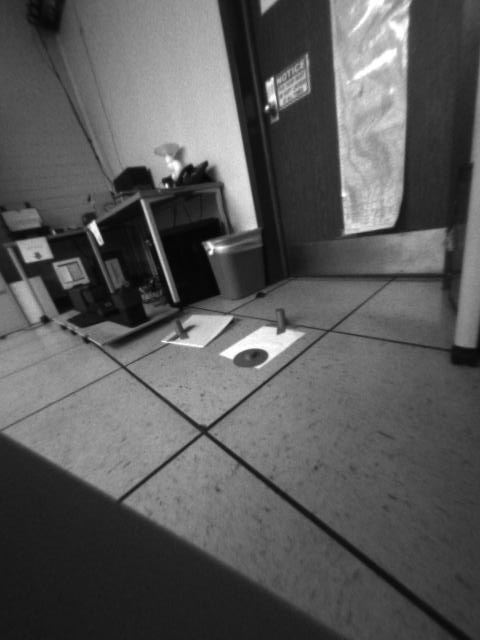X: (264, 307, 298, 334), (169, 316, 194, 343)
